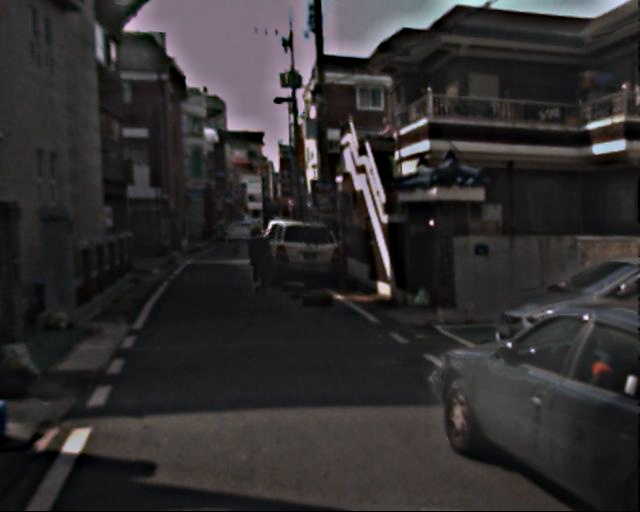person: (246, 226, 273, 293)
